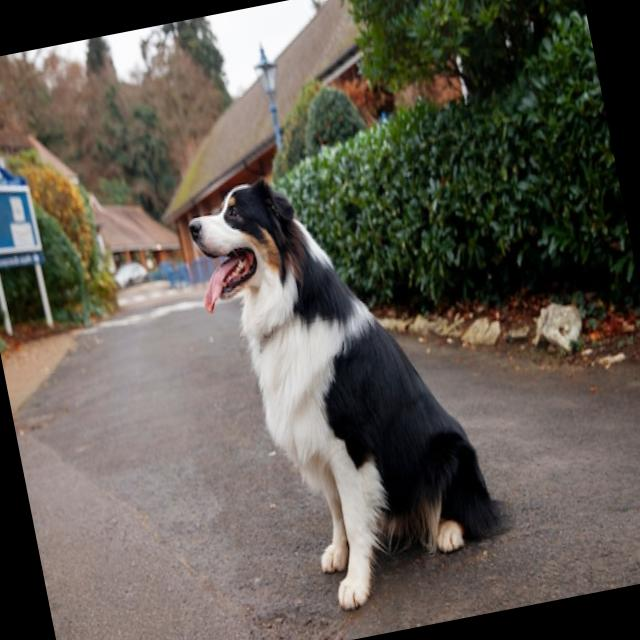Dog: (182, 143, 519, 626)
